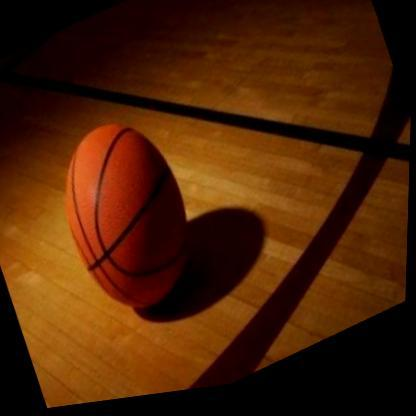basketball: (36, 99, 220, 344)
